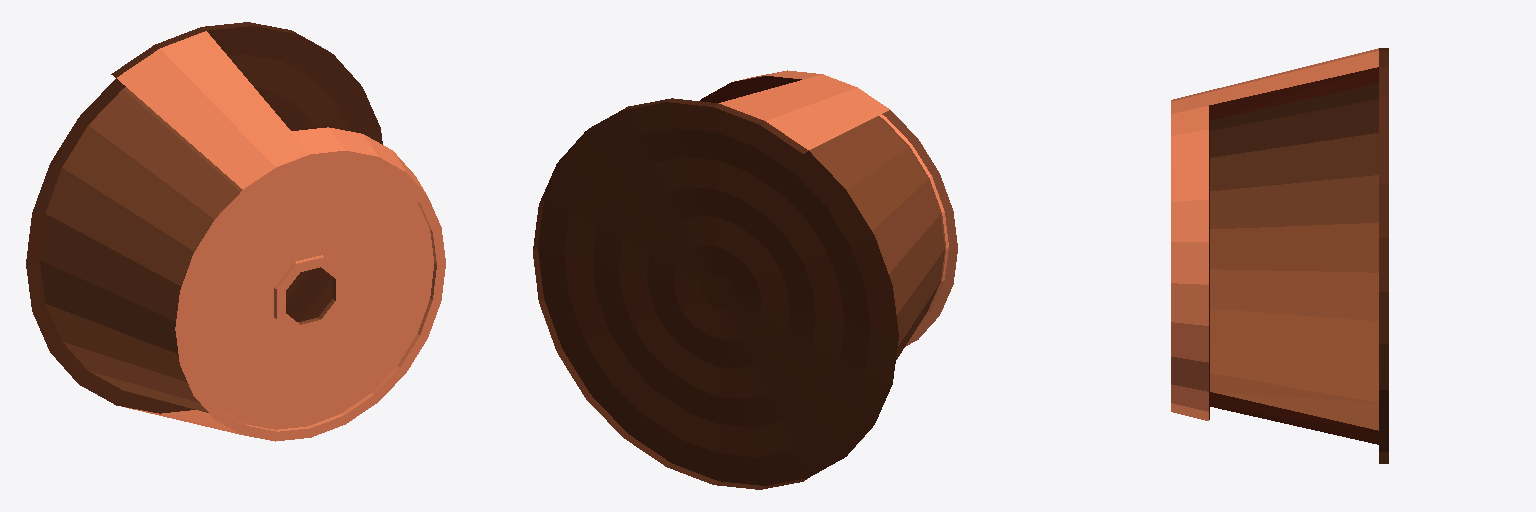
File: nest_interior.obj
3 renders of one model, left to right at view 1: azimuth 30°, elevation 25°; view 2: azimuth 150°, elevation 25°; view 3: azimuth 270°, elevation 25°, orthographic.
Parts seen in each view (by area): view 1: Walls_Cylinder.001, Floor_Cylinder.002; view 2: Floor_Cylinder.002, Walls_Cylinder.001; view 3: Walls_Cylinder.001, Floor_Cylinder.002.
Boxes of the visible parts, x1,y1,x2,y2 form: Walls_Cylinder.001: [40, 31, 445, 441]; Floor_Cylinder.002: [26, 22, 382, 413]; Floor_Cylinder.002: [533, 98, 898, 489]; Walls_Cylinder.001: [700, 70, 957, 359]; Walls_Cylinder.001: [1171, 48, 1378, 444]; Floor_Cylinder.002: [1379, 48, 1388, 463].
Bounding box in the file's own units: 4 × 4 × 2.1.